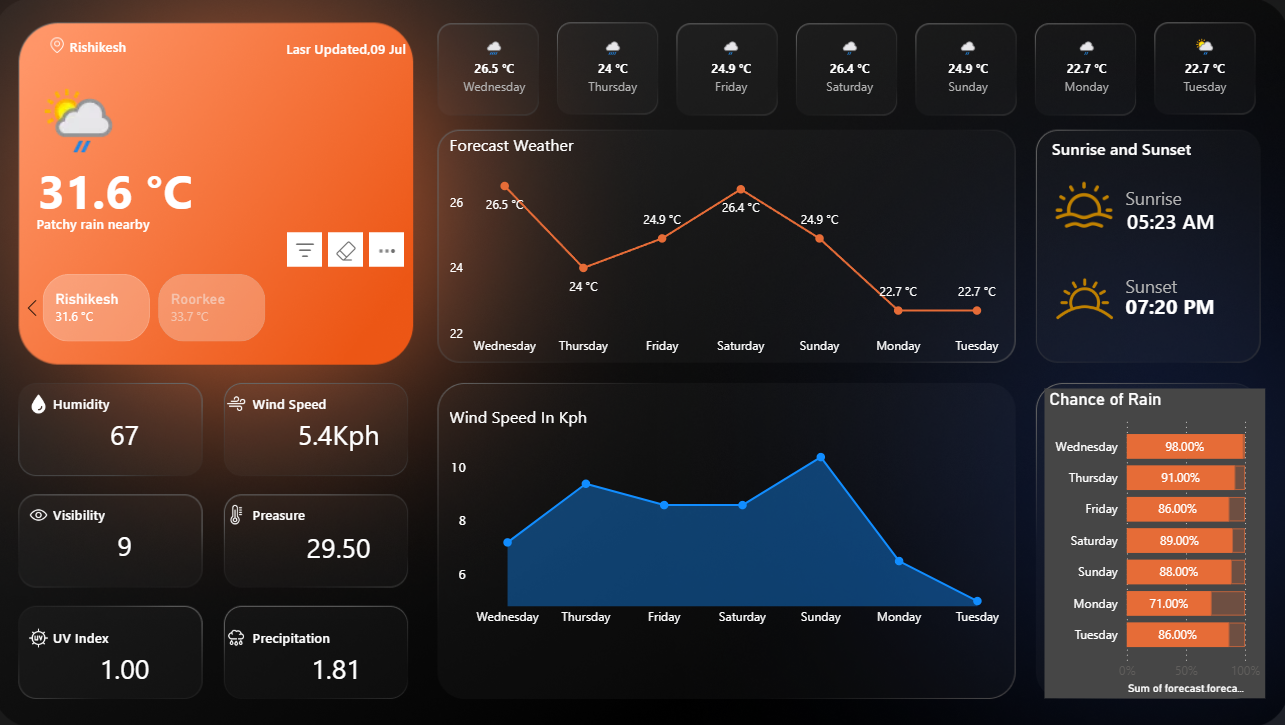

The page's visual inventory and layout, read from the dashboard file:
{"tool":"powerbi","page":{"name":"Page 1","canvas":[1280,720],"ordinal":0},"visuals":[{"type":"advancedSlicerVisual","fields":{"Values":["Locations.location.name"]},"box":[23.9,264.6,384,77.6],"z":0},{"type":"shape","box":[43.8,153.2,210.9,67.6],"z":1000},{"type":"shape","box":[43.5,206,211.7,28.3],"z":2000},{"type":"shape","box":[75.6,31.8,121.4,29.8],"z":3000},{"type":"shape","box":[197,35.8,210.9,23.9],"z":4000},{"type":"image","box":[49.7,29.8,25.9,29.8],"z":5000},{"type":"cardVisual","fields":{"Data":["Min(Current.current.condition.icon)"]},"box":[23.9,59.7,113.4,105.5],"z":6000},{"type":"image","box":[30,384,30,30],"z":7000},{"type":"image","box":[225.6,383.4,30,30],"z":8000},{"type":"image","box":[30,493.4,30,30],"z":9000},{"type":"image","box":[225.6,493.8,30,30],"z":10000},{"type":"image","box":[30,614.8,30,30],"z":11000},{"type":"image","box":[225.6,615.3,30,30],"z":12000},{"type":"shape","box":[60,383.4,137.3,30],"z":13000},{"type":"shape","box":[60,493.8,137.3,30],"z":14000},{"type":"shape","box":[60,615.3,137.3,30],"z":15000},{"type":"shape","box":[255.6,383.4,137.3,30],"z":16000},{"type":"shape","box":[255.6,615.3,137.3,30],"z":17000},{"type":"shape","box":[255.6,493.8,137.3,30],"z":18000},{"type":"card","fields":{"Values":["Sum(Current.current.humidity)"]},"box":[93.1,399.1,72.6,63.1],"z":19000},{"type":"card","fields":{"Values":["MeasureTable.Wind_Speed"]},"box":[288.7,399.1,104.1,63.1],"z":20000},{"type":"card","fields":{"Values":["Sum(Current.current.pressure_in)"]},"box":[288.7,509.6,104.1,63.1],"z":21000},{"type":"card","fields":{"Values":["Sum(Current.current.vis_km)"]},"box":[93.1,508,72.6,63.1],"z":22000},{"type":"card","fields":{"Values":["Sum(Current.current.uv)"]},"box":[93.1,629.5,72.6,63.1],"z":23000},{"type":"card","fields":{"Values":["Sum(Current.current.precip_mm)"]},"box":[302.9,629.5,72.6,63.1],"z":24000},{"type":"advancedSlicerVisual","fields":{"Values":["Forecast_Day.Day_Name"]},"box":[435.4,30,823.5,82],"z":25000},{"type":"lineChart","title":"Forecast Weather","fields":{"Y":["Sum(Forecast_Day.forecast.forecastday.day.avgtemp_c)"],"Category":["Forecast_Day.Day_Name"]},"box":[446.5,132.5,561.6,227.2],"z":26000},{"type":"shape","box":[1046,132.5,200.4,30],"z":27000},{"type":"shape","box":[1119.6,183.5,99.4,67.8],"z":28000},{"type":"shape","box":[1119.1,268.7,99.4,67.8],"z":29000},{"type":"shape","box":[1118,177.2,99.4,34.7],"z":30000},{"type":"shape","box":[1118,269.3,99.4,25.2],"z":31000},{"type":"image","box":[1034.9,168.8,83.6,66.3],"z":32000},{"type":"image","box":[1034.9,250.8,85.2,89.9],"z":33000},{"type":"hundredPercentStackedBarChart","title":"Chance of Rain","fields":{"Y":["Sum(Forecast_Day.forecast.forecastday.day.daily_chance_of_rain)","MeasureTable.Left_Value_Rain"],"Category":["Forecast_Day.Day_Name"]},"box":[1038.1,383.4,217.7,306.1],"z":34000},{"type":"lineChart","title":"Wind Speed In Kph","fields":{"Category":["Forecast_Day.Day_Name"],"Y":["Sum(Forecast_Day.forecast.forecastday.day.maxwind_kph)"]},"box":[446.6,399.7,562,227.5],"z":35000}]}

Visuals, with their boxes in screenshot pixels (x1, y1, x2, y2), scaled from the page's 1280x720 canvas onto the 1285x725 screenshot:
advancedSlicerVisual - Locations.location.name: bbox=(24, 266, 409, 345)
shape: bbox=(44, 154, 256, 222)
shape: bbox=(44, 207, 256, 236)
shape: bbox=(76, 32, 198, 62)
shape: bbox=(198, 36, 409, 60)
image: bbox=(50, 30, 76, 60)
cardVisual - Min(Current.current.condition.icon): bbox=(24, 60, 138, 166)
image: bbox=(30, 387, 60, 417)
image: bbox=(226, 386, 257, 416)
image: bbox=(30, 497, 60, 527)
image: bbox=(226, 497, 257, 527)
image: bbox=(30, 619, 60, 649)
image: bbox=(226, 620, 257, 650)
shape: bbox=(60, 386, 198, 416)
shape: bbox=(60, 497, 198, 527)
shape: bbox=(60, 620, 198, 650)
shape: bbox=(257, 386, 394, 416)
shape: bbox=(257, 620, 394, 650)
shape: bbox=(257, 497, 394, 527)
card - Sum(Current.current.humidity): bbox=(93, 402, 166, 465)
card - MeasureTable.Wind_Speed: bbox=(290, 402, 394, 465)
card - Sum(Current.current.pressure_in): bbox=(290, 513, 394, 577)
card - Sum(Current.current.vis_km): bbox=(93, 512, 166, 575)
card - Sum(Current.current.uv): bbox=(93, 634, 166, 697)
card - Sum(Current.current.precip_mm): bbox=(304, 634, 377, 697)
advancedSlicerVisual - Forecast_Day.Day_Name: bbox=(437, 30, 1264, 113)
"Forecast Weather" lineChart: bbox=(448, 133, 1012, 362)
shape: bbox=(1050, 133, 1251, 164)
shape: bbox=(1124, 185, 1224, 253)
shape: bbox=(1123, 271, 1223, 339)
shape: bbox=(1122, 178, 1222, 213)
shape: bbox=(1122, 271, 1222, 297)
image: bbox=(1039, 170, 1123, 237)
image: bbox=(1039, 253, 1124, 343)
"Chance of Rain" hundredPercentStackedBarChart: bbox=(1042, 386, 1261, 694)
"Wind Speed In Kph" lineChart: bbox=(448, 402, 1013, 632)
